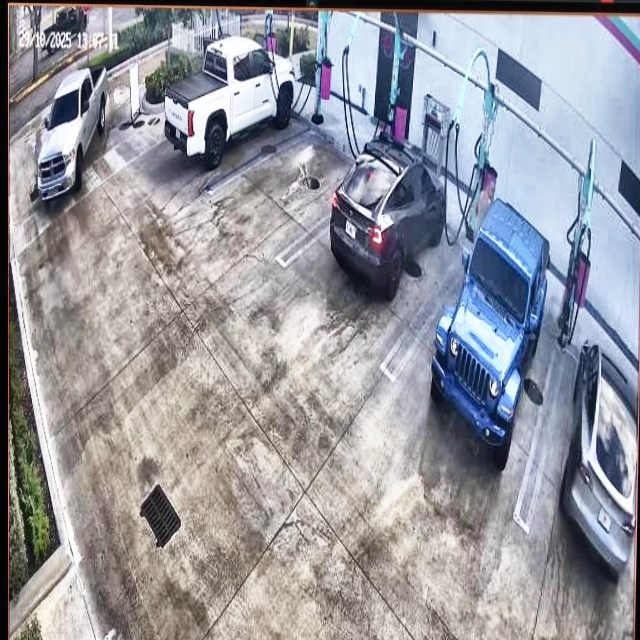Car: (432, 199, 550, 478), (331, 128, 449, 300), (163, 40, 294, 165)
